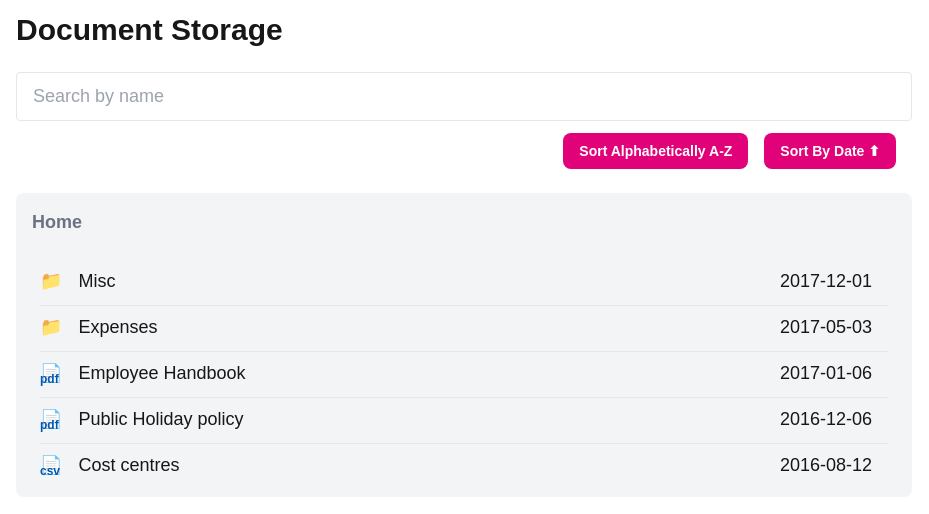
Test: Home › can filter the files using name
The image size is (929, 514).
Expected: the number of elements with test id "file-name" is 3, [78, 362, 246, 382]; [78, 408, 244, 428]; [78, 454, 180, 474]
Type "Employee Handbook" into the field with placeholder "Search by name".
click(464, 96); type("Employee Handbook")  # box [16, 72, 912, 120]
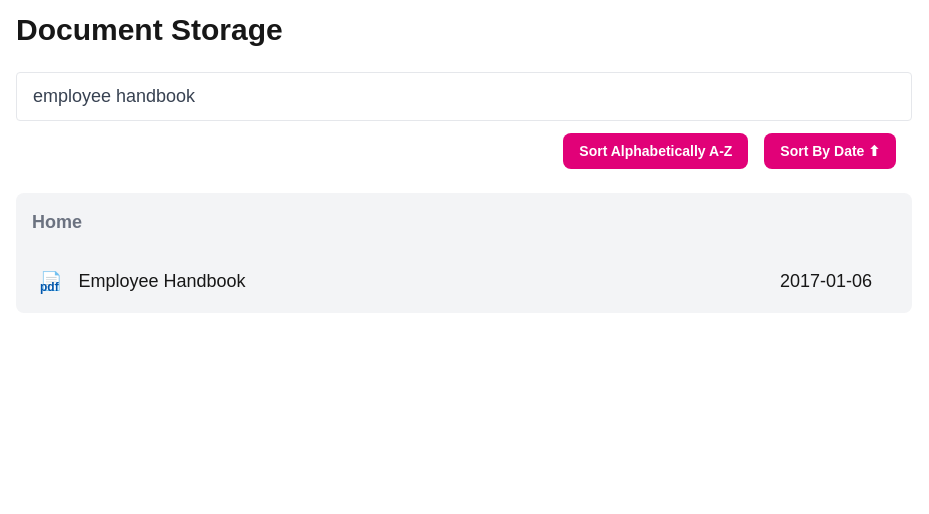
Expected: the text with test id "file-name" reads "Employee Handbook", [78, 270, 246, 290]
Result: the number of elements with test id "file-name" is 1 at [78, 270, 246, 290]
